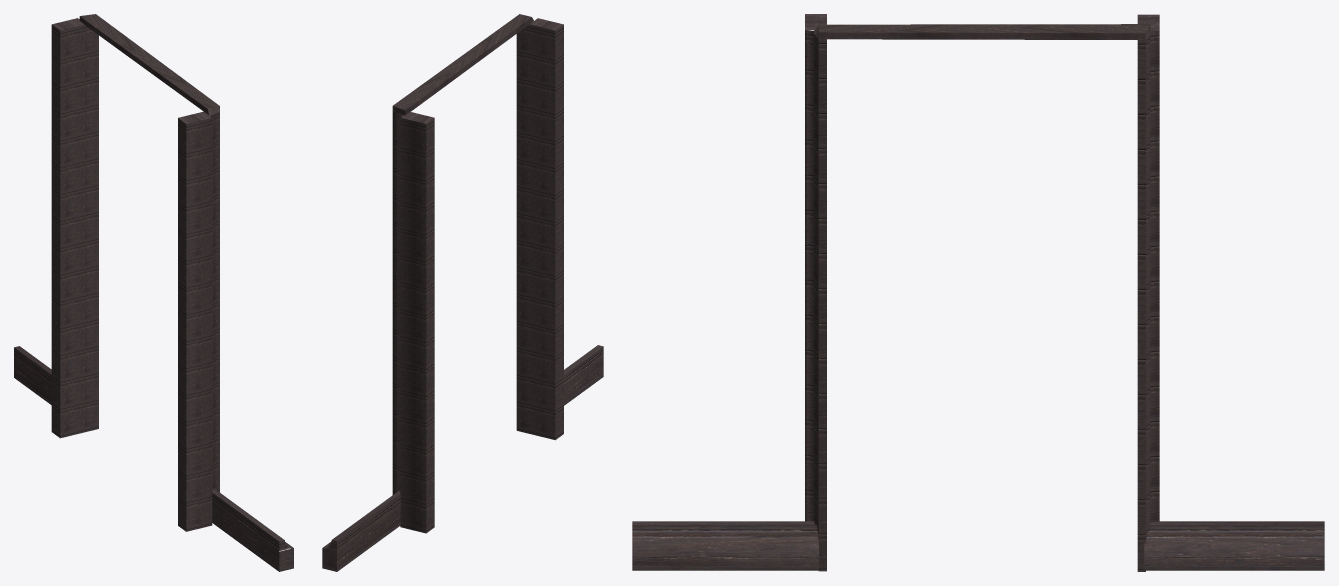
File: soupdoortrim002.glb
The picture shows the model from 3 angles, left to right: view 1: azimuth 30°, elevation 25°; view 2: azimuth 150°, elevation 25°; view 3: azimuth 270°, elevation 25°; orthographic projection. The views are drawn at different scales.
Parts seen in each view (by area): view 1: soupdoortrim002_high_1; view 2: soupdoortrim002_high_1; view 3: soupdoortrim002_high_1.
Boxes of the visible parts, bbox=[...] form: soupdoortrim002_high_1: bbox=[14, 14, 293, 571]; soupdoortrim002_high_1: bbox=[322, 14, 603, 571]; soupdoortrim002_high_1: bbox=[632, 14, 1324, 571].
Size of the model in its own units: 0.2435 by 2.32 by 2.7.
Materials: 1 (1 with a texture image).
